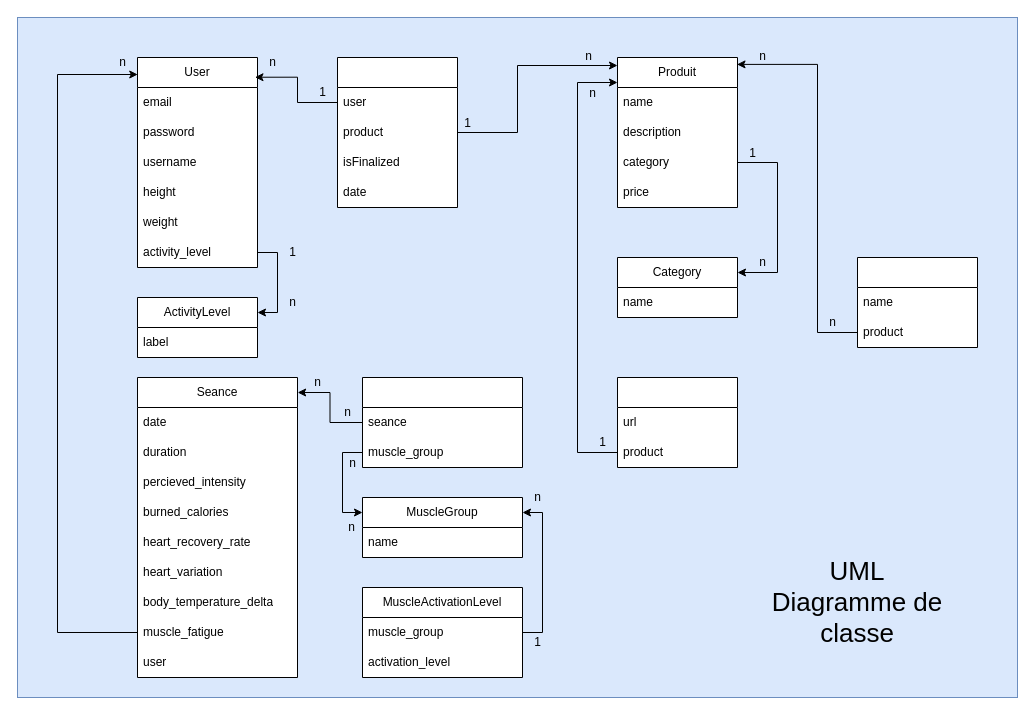
Image size: 1035x715. Some labels were removed from this diagram. The box of each missing label's shape, as (x1, y1, x2, y2) in pixels:
Cart: (336, 56, 458, 208)
Media: (616, 376, 738, 468)
SeanceMuscleGroup: (362, 376, 522, 468)
Size: (856, 256, 978, 348)
